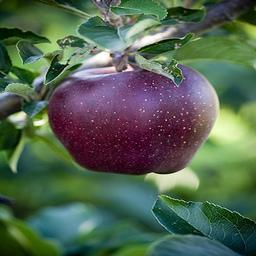apple: (49, 66, 220, 174)
